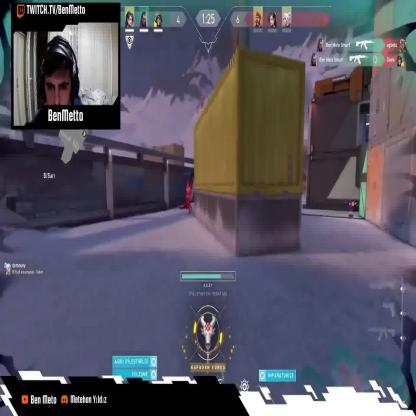enemy: (186, 179, 192, 214)
enemy_head: (187, 180, 189, 185)
